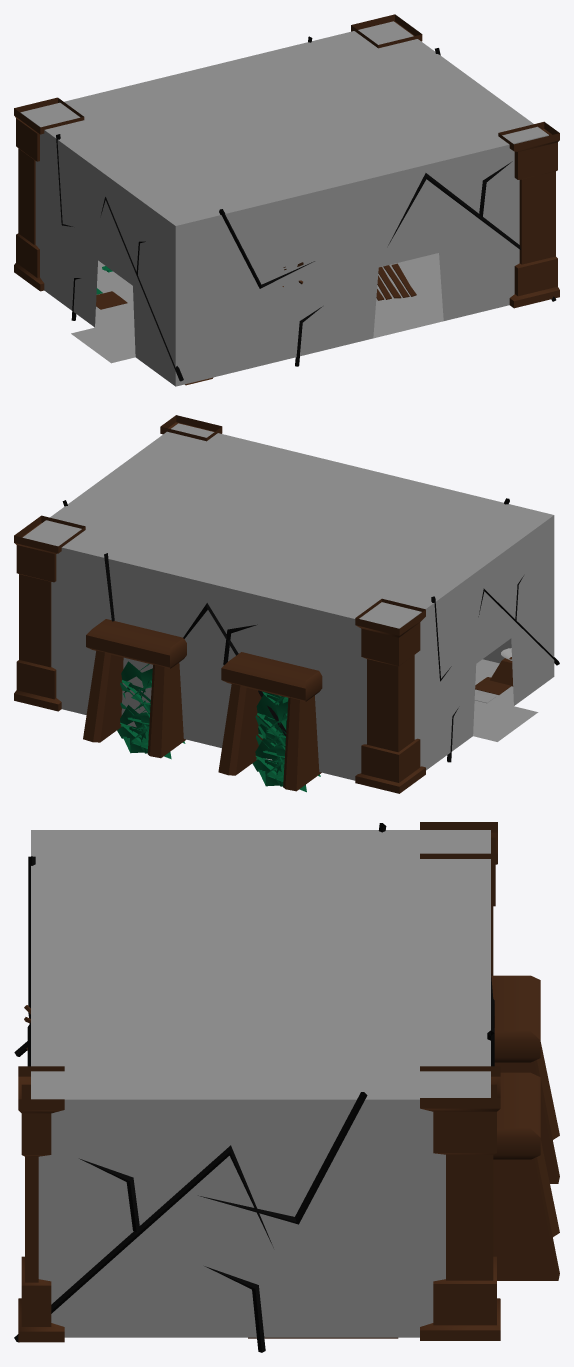
Rendered from level02_floor02.FBX.
3 views of the same model, one above another, from view 1: azimuth 30°, elevation 25°; view 2: azimuth 150°, elevation 25°; view 3: azimuth 270°, elevation 25° (orthographic). The views are drawn at different scales.
Visible parts, largest first — view 1: floor02_bounds, floor02_props; view 2: floor02_bounds, floor02_props; view 3: floor02_bounds.
Part boxes in pixels (box(x1,y1,x2,y2)): floor02_bounds: box(14, 14, 559, 386); floor02_props: box(96, 262, 416, 385); floor02_bounds: box(14, 415, 559, 793); floor02_props: box(474, 648, 513, 703); floor02_bounds: box(14, 822, 559, 1352).
Size of the model in its own units: 2231 by 1024 by 1763.
